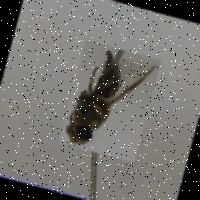Oriental-fruit-fly: (59, 39, 162, 162)
